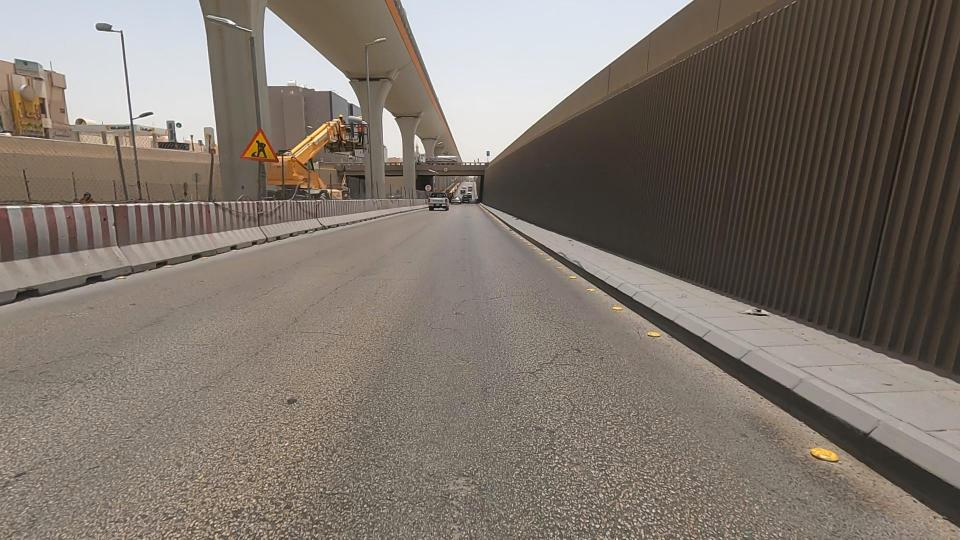CONSTRUCTION_ROAD: (0, 133, 295, 295), (201, 159, 329, 260), (291, 176, 391, 235)
